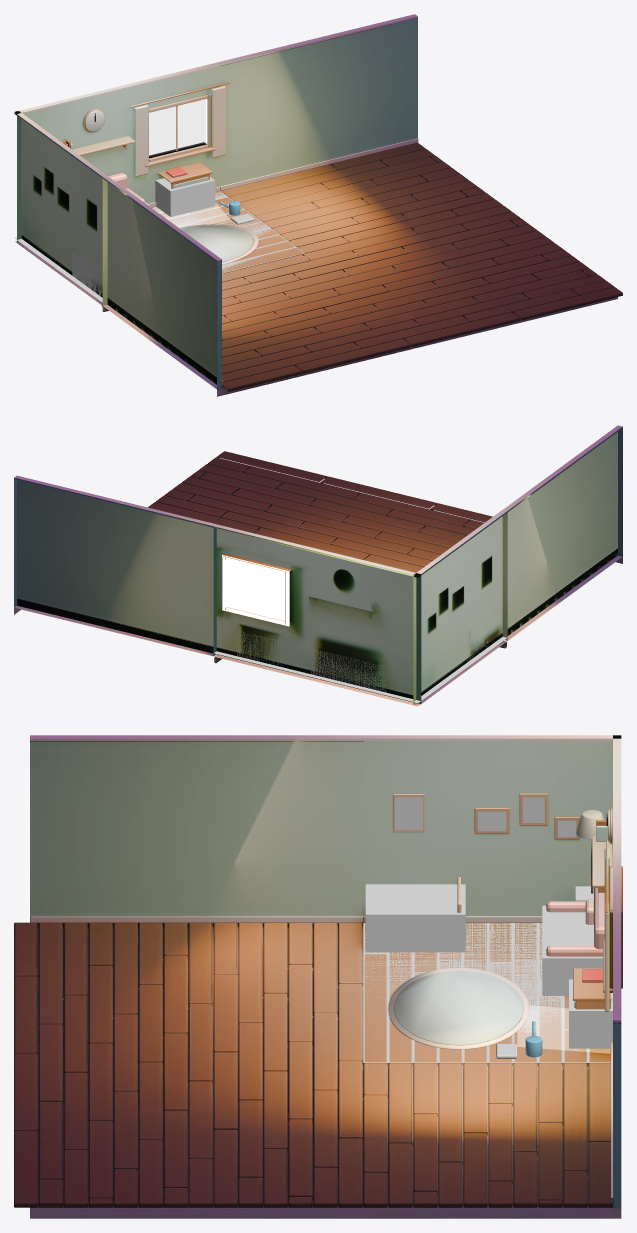
Rendered from room.glb.
3 renders of one model, top to bottom at view 1: azimuth 30°, elevation 25°; view 2: azimuth 150°, elevation 25°; view 3: azimuth 270°, elevation 25°, orthographic. The views are drawn at different scales.
Visible parts, largest first — view 1: wall_back_out, wall_left_out, wall_left, wall_back, dyn_sky, dyn_glass, block_chest, rug, view_area, slab_out_front, plank_out_8_0, plank_out_3_0 (+70 smaller); view 2: wall_back_out, wall_back, wall_left_out, wall_left, dyn_sky, slab_out_right, block_sofa, slab_out_front, view_area, slab, plank_out_-13_2, plank_out_-12_2 (+27 smaller); view 3: wall_left_out, wall_left, slab_out_right, view_area, rug, block_bed, slab_out_front, block_sofa, plank_out_8_0, plank_0_1, plank_out_-5_0, plank_out_3_0 (+94 smaller).
Boxes of the visible parts, bbox=[...] form: wall_back_out: bbox=[220, 18, 417, 192]; wall_left_out: bbox=[103, 178, 221, 389]; wall_left: bbox=[14, 113, 107, 305]; wall_back: bbox=[14, 66, 219, 242]; dyn_sky: bbox=[149, 98, 207, 155]; dyn_glass: bbox=[149, 99, 205, 156]; block_chest: bbox=[155, 177, 215, 216]; rug: bbox=[181, 226, 253, 262]; view_area: bbox=[14, 191, 304, 302]; slab_out_front: bbox=[103, 256, 419, 396]; plank_out_8_0: bbox=[229, 160, 387, 202]; plank_out_3_0: bbox=[272, 195, 417, 235]; wall_back_out: bbox=[14, 478, 213, 653]; wall_back: bbox=[213, 527, 421, 703]; wall_left_out: bbox=[507, 428, 622, 635]; wall_left: bbox=[413, 512, 507, 704]; dyn_sky: bbox=[222, 555, 289, 626]; slab_out_right: bbox=[14, 460, 411, 656]; block_sofa: bbox=[311, 649, 386, 692]; slab_out_front: bbox=[358, 507, 622, 640]; view_area: bbox=[214, 636, 506, 702]; slab: bbox=[214, 641, 506, 706]; plank_out_-13_2: bbox=[243, 466, 360, 498]; plank_out_-12_2: bbox=[276, 482, 392, 514]; wall_left_out: bbox=[30, 741, 363, 926]; wall_left: bbox=[363, 741, 612, 916]; slab_out_right: bbox=[30, 1067, 621, 1218]; view_area: bbox=[363, 923, 610, 1062]; rug: bbox=[394, 971, 523, 1045]; block_bed: bbox=[365, 884, 465, 952]; slab_out_front: bbox=[37, 926, 363, 1067]; block_sofa: bbox=[542, 905, 602, 995]; plank_out_8_0: bbox=[563, 1063, 587, 1173]; plank_0_1: bbox=[363, 954, 387, 1065]; plank_out_-5_0: bbox=[238, 923, 262, 1023]; plank_out_3_0: bbox=[438, 1063, 462, 1164].
Size of the model in its own units: 8.1 by 2.63 by 7.31.
Materials: 10 (2 with a texture image).
